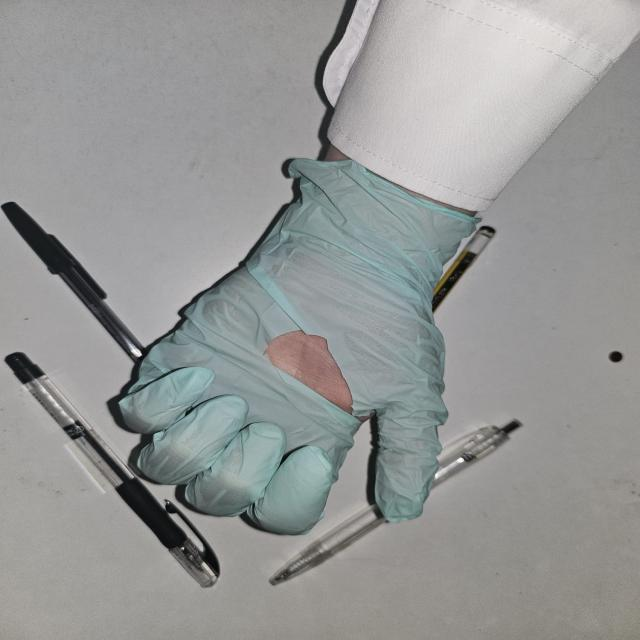gloves_damaged: (115, 158, 474, 534)
